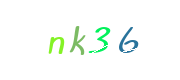3: (62, 0, 142, 80)
6: (87, 0, 167, 80)
K: (49, 0, 129, 80)
N: (30, 0, 110, 80)
